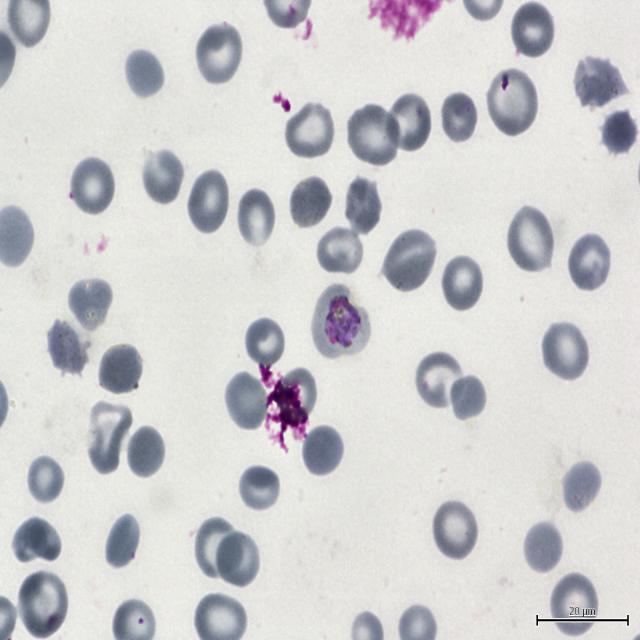red blood cell: (381, 226, 438, 295), (486, 65, 538, 140), (17, 568, 69, 639), (346, 102, 401, 168), (506, 206, 556, 275), (84, 404, 130, 477), (549, 571, 599, 636), (194, 21, 243, 87), (541, 319, 591, 383), (431, 498, 480, 562), (414, 349, 464, 411), (572, 50, 627, 106), (384, 90, 432, 154), (186, 168, 231, 235), (69, 155, 117, 217), (214, 528, 262, 589), (567, 230, 612, 294), (224, 370, 270, 432), (45, 316, 91, 378), (196, 518, 242, 580), (510, 0, 556, 61), (67, 275, 114, 333), (235, 187, 278, 250), (440, 252, 484, 313), (140, 147, 185, 206), (316, 223, 365, 277), (96, 342, 144, 397), (12, 516, 63, 567), (285, 105, 335, 156), (342, 174, 382, 237), (288, 174, 332, 231), (300, 423, 345, 478), (560, 459, 603, 515), (243, 315, 287, 369), (522, 520, 564, 574), (123, 46, 165, 100), (125, 424, 166, 479), (237, 464, 282, 514), (104, 512, 142, 570), (596, 107, 640, 157), (439, 90, 478, 146), (26, 453, 65, 507), (280, 367, 317, 422), (448, 372, 487, 423)
trophozoite: (310, 282, 370, 360)
